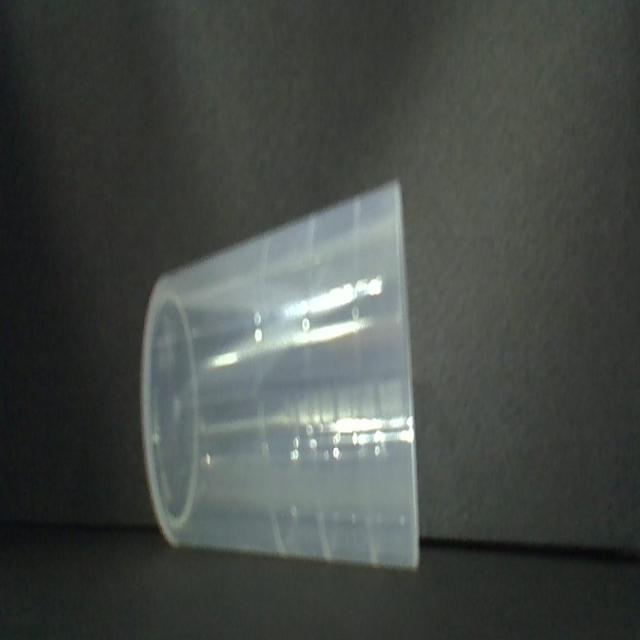cup: (134, 169, 432, 586)
